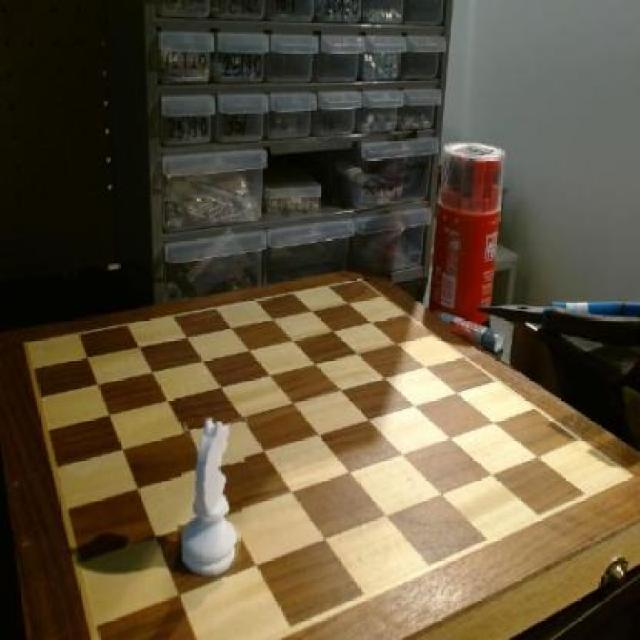white-king: (177, 412, 245, 582)
